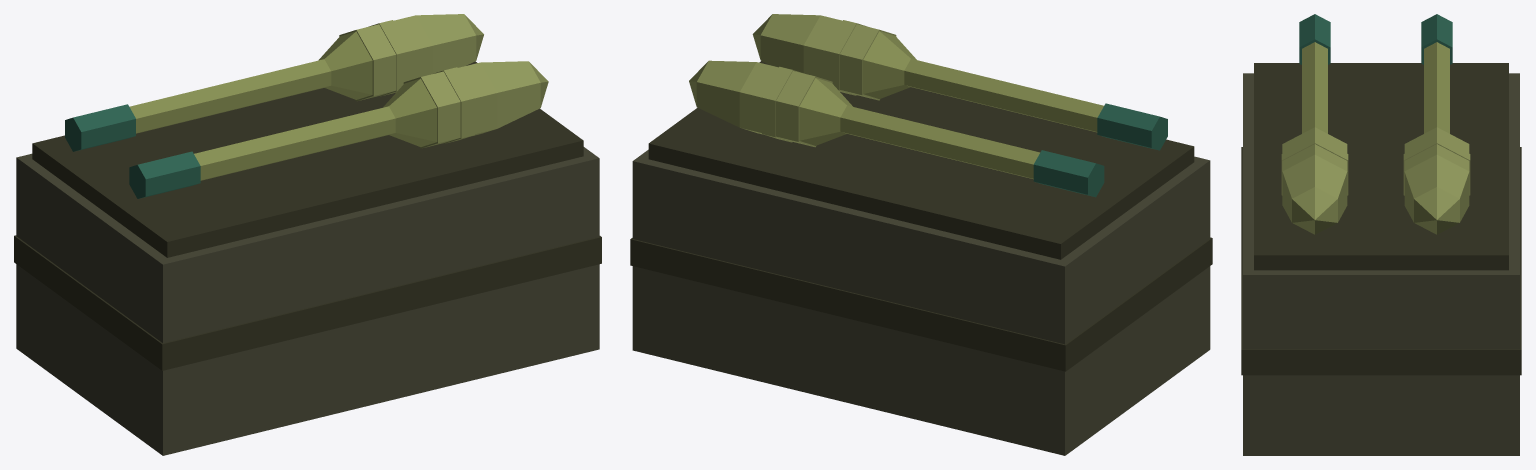
The model's file is ce_ammo2_rpg_frag_c.obj.
3 renders of one model, left to right at view 1: azimuth 30°, elevation 25°; view 2: azimuth 150°, elevation 25°; view 3: azimuth 270°, elevation 25°, orthographic. The views are drawn at different scales.
Visible parts, largest first — view 1: ce_ammo2_rpg_frag_c_0, ce_ammo2_rpg_frag_c_1, ce_ammo2_rpg_frag_c_2, ce_ammo2_rpg_frag_c_4, ce_ammo2_rpg_frag_c_12, ce_ammo2_rpg_frag_c_17, ce_ammo2_rpg_frag_c_13, ce_ammo2_rpg_frag_c_9, ce_ammo2_rpg_frag_c_5, ce_ammo2_rpg_frag_c_11, ce_ammo2_rpg_frag_c_3, ce_ammo2_rpg_frag_c_6 (+5 smaller); view 2: ce_ammo2_rpg_frag_c_0, ce_ammo2_rpg_frag_c_1, ce_ammo2_rpg_frag_c_2, ce_ammo2_rpg_frag_c_12, ce_ammo2_rpg_frag_c_4, ce_ammo2_rpg_frag_c_9, ce_ammo2_rpg_frag_c_17, ce_ammo2_rpg_frag_c_5, ce_ammo2_rpg_frag_c_13, ce_ammo2_rpg_frag_c_3, ce_ammo2_rpg_frag_c_11, ce_ammo2_rpg_frag_c_14 (+5 smaller); view 3: ce_ammo2_rpg_frag_c_0, ce_ammo2_rpg_frag_c_1, ce_ammo2_rpg_frag_c_2, ce_ammo2_rpg_frag_c_9, ce_ammo2_rpg_frag_c_17, ce_ammo2_rpg_frag_c_4, ce_ammo2_rpg_frag_c_12, ce_ammo2_rpg_frag_c_10, ce_ammo2_rpg_frag_c_18, ce_ammo2_rpg_frag_c_3, ce_ammo2_rpg_frag_c_11, ce_ammo2_rpg_frag_c_16 (+5 smaller).
Part boxes in pixels (bbox=[...]): ce_ammo2_rpg_frag_c_0: bbox=[16, 147, 599, 455]; ce_ammo2_rpg_frag_c_1: bbox=[32, 61, 583, 257]; ce_ammo2_rpg_frag_c_2: bbox=[14, 235, 601, 370]; ce_ammo2_rpg_frag_c_4: bbox=[129, 59, 331, 133]; ce_ammo2_rpg_frag_c_12: bbox=[194, 106, 395, 180]; ce_ammo2_rpg_frag_c_17: bbox=[480, 61, 540, 128]; ce_ammo2_rpg_frag_c_13: bbox=[383, 78, 437, 146]; ce_ammo2_rpg_frag_c_9: bbox=[416, 14, 476, 73]; ce_ammo2_rpg_frag_c_5: bbox=[318, 31, 372, 99]; ce_ammo2_rpg_frag_c_11: bbox=[129, 151, 200, 198]; ce_ammo2_rpg_frag_c_3: bbox=[65, 104, 135, 151]; ce_ammo2_rpg_frag_c_6: bbox=[339, 24, 396, 101]; ce_ammo2_rpg_frag_c_0: bbox=[632, 149, 1210, 455]; ce_ammo2_rpg_frag_c_1: bbox=[648, 61, 1194, 259]; ce_ammo2_rpg_frag_c_2: bbox=[630, 237, 1212, 371]; ce_ammo2_rpg_frag_c_12: bbox=[904, 58, 1103, 132]; ce_ammo2_rpg_frag_c_4: bbox=[840, 105, 1039, 179]; ce_ammo2_rpg_frag_c_9: bbox=[696, 60, 756, 127]; ce_ammo2_rpg_frag_c_17: bbox=[760, 14, 820, 72]; ce_ammo2_rpg_frag_c_5: bbox=[799, 78, 852, 145]; ce_ammo2_rpg_frag_c_13: bbox=[863, 31, 916, 99]; ce_ammo2_rpg_frag_c_3: bbox=[1033, 150, 1104, 197]; ce_ammo2_rpg_frag_c_11: bbox=[1097, 103, 1167, 150]; ce_ammo2_rpg_frag_c_14: bbox=[839, 24, 896, 100]; ce_ammo2_rpg_frag_c_0: bbox=[1243, 73, 1519, 455]; ce_ammo2_rpg_frag_c_1: bbox=[1254, 63, 1508, 270]; ce_ammo2_rpg_frag_c_2: bbox=[1241, 147, 1521, 375]; ce_ammo2_rpg_frag_c_9: bbox=[1404, 154, 1469, 222]; ce_ammo2_rpg_frag_c_17: bbox=[1282, 154, 1347, 222]; ce_ammo2_rpg_frag_c_4: bbox=[1424, 42, 1449, 133]; ce_ammo2_rpg_frag_c_12: bbox=[1302, 42, 1327, 133]; ce_ammo2_rpg_frag_c_10: bbox=[1414, 187, 1459, 234]; ce_ammo2_rpg_frag_c_18: bbox=[1292, 187, 1337, 234]; ce_ammo2_rpg_frag_c_3: bbox=[1421, 14, 1452, 64]; ce_ammo2_rpg_frag_c_11: bbox=[1299, 14, 1330, 64]; ce_ammo2_rpg_frag_c_16: bbox=[1282, 144, 1347, 171].
Size of the model in its own units: 0.866 by 0.5268 by 0.506.
